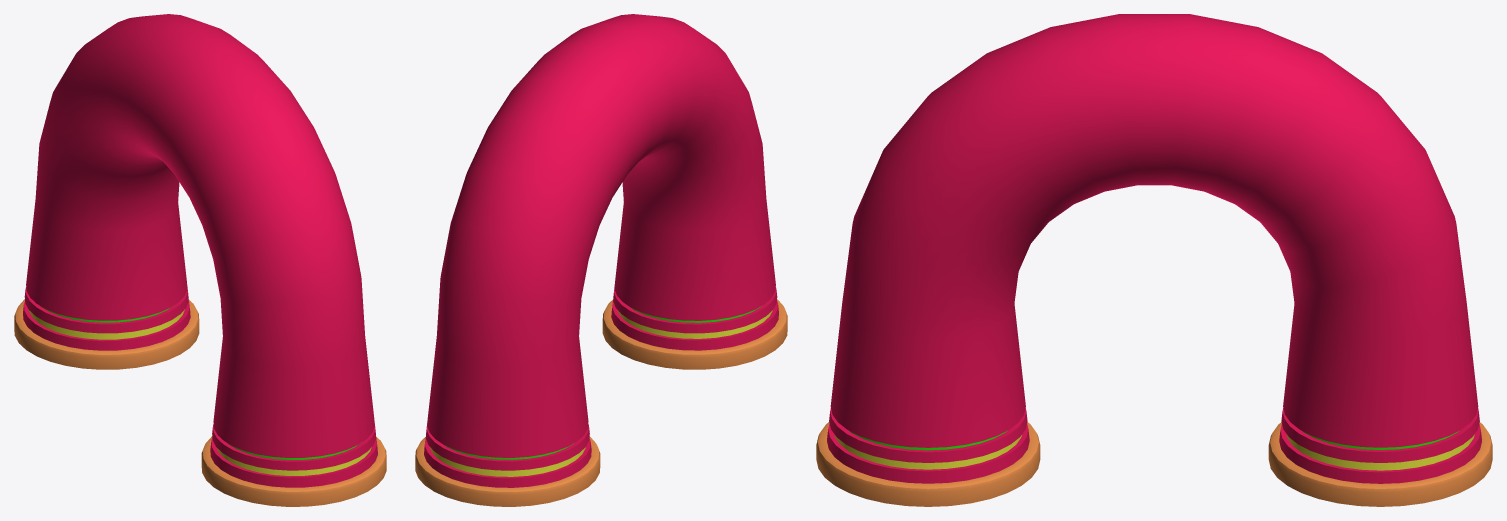
3 renders of one model, left to right at view 1: azimuth 30°, elevation 25°; view 2: azimuth 150°, elevation 25°; view 3: azimuth 270°, elevation 25°, orthographic. The views are drawn at different scales.
Parts seen in each view (by area): view 1: Cylinder.001, Cylinder.003, Cylinder.002, Cylinder.004; view 2: Cylinder.001, Cylinder.003, Cylinder.002, Cylinder.004; view 3: Cylinder.001, Cylinder.003, Cylinder.002, Cylinder.004.
Boxes of the visible parts, x1,y1,x2,y2 form: Cylinder.001: (23,14,377,487); Cylinder.003: (14,299,386,506); Cylinder.002: (28,309,371,475); Cylinder.004: (40,306,361,459); Cylinder.001: (424,14,778,487); Cylinder.003: (415,299,787,506); Cylinder.002: (430,310,772,476); Cylinder.004: (444,305,761,459); Cylinder.001: (827,14,1481,483); Cylinder.003: (816,422,1492,506); Cylinder.002: (834,434,1474,470); Cylinder.004: (849,430,1458,450).
Bounding box in the file's own units: 260 × 560 × 785.
